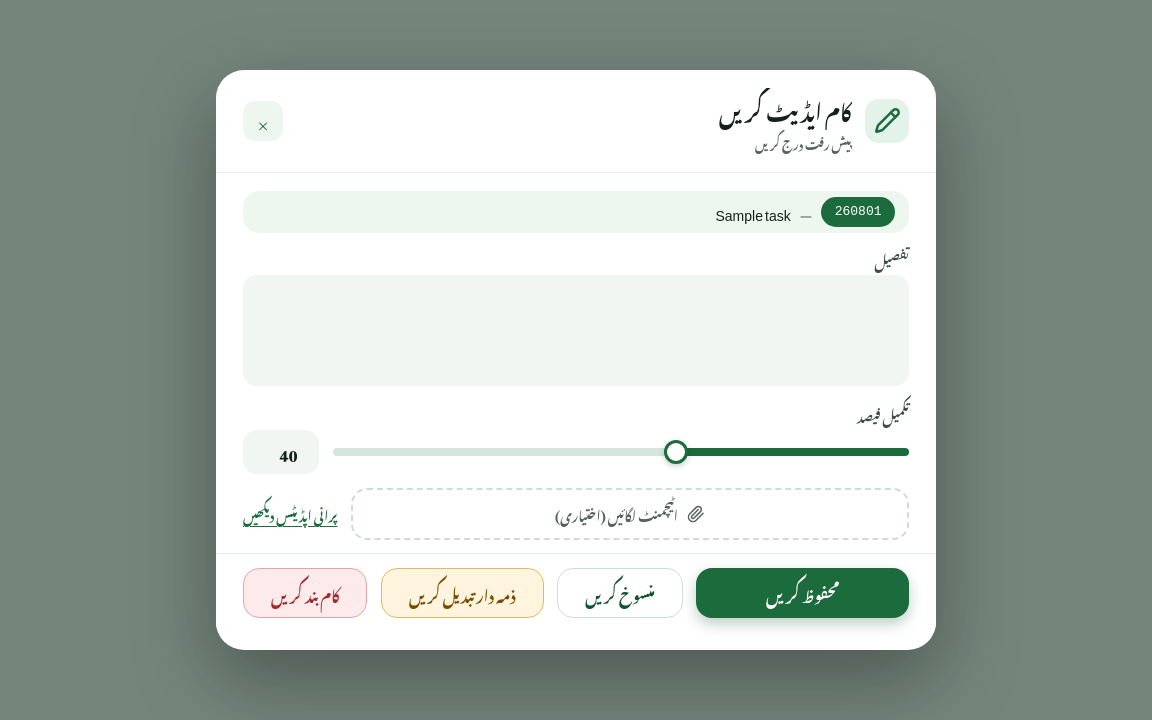
it: UpdateModal (docs/08-ui-ux.md §7, docs/09-frontend-features.md §3) › Change Assignee footer button › shows a read-only Zimmedari field that auto-fills from the selected person, not before
Expected: the text "Sample task" is shown, x1=716 y1=194 x2=791 y2=229
Click the button "ذمہ دار تبدیل کریں": (462, 593) x1=381 y1=568 x2=544 y2=618
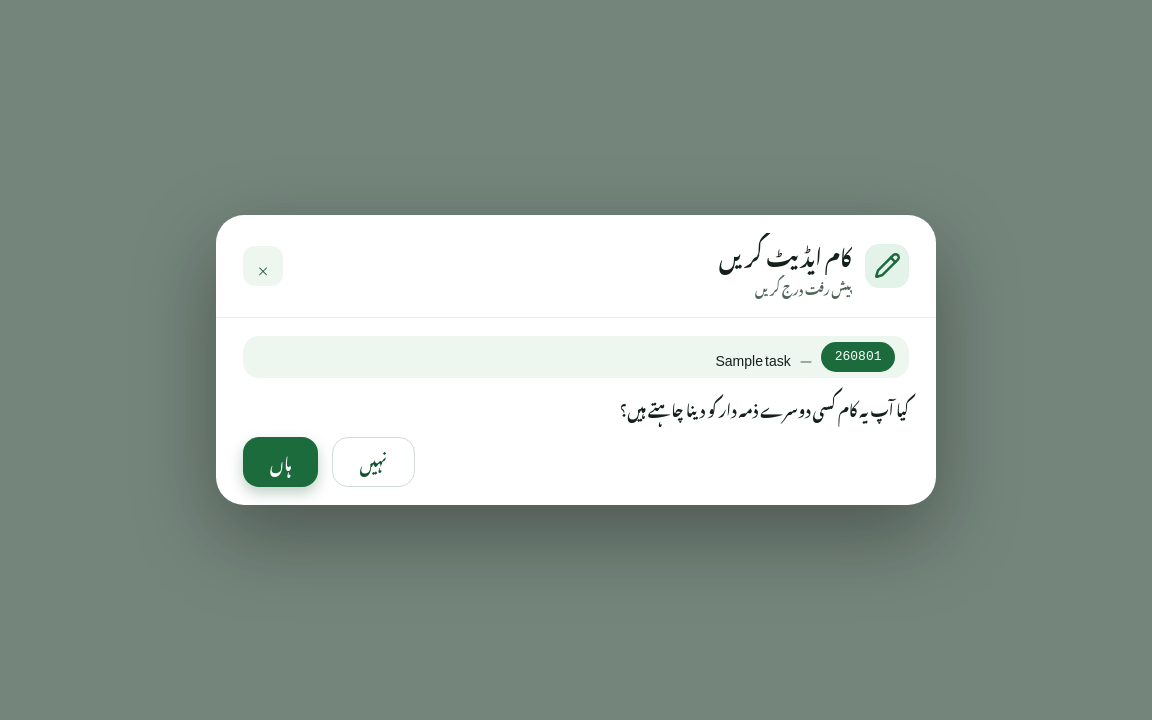
Click the button "ہاں": (281, 462) x1=243 y1=437 x2=318 y2=487
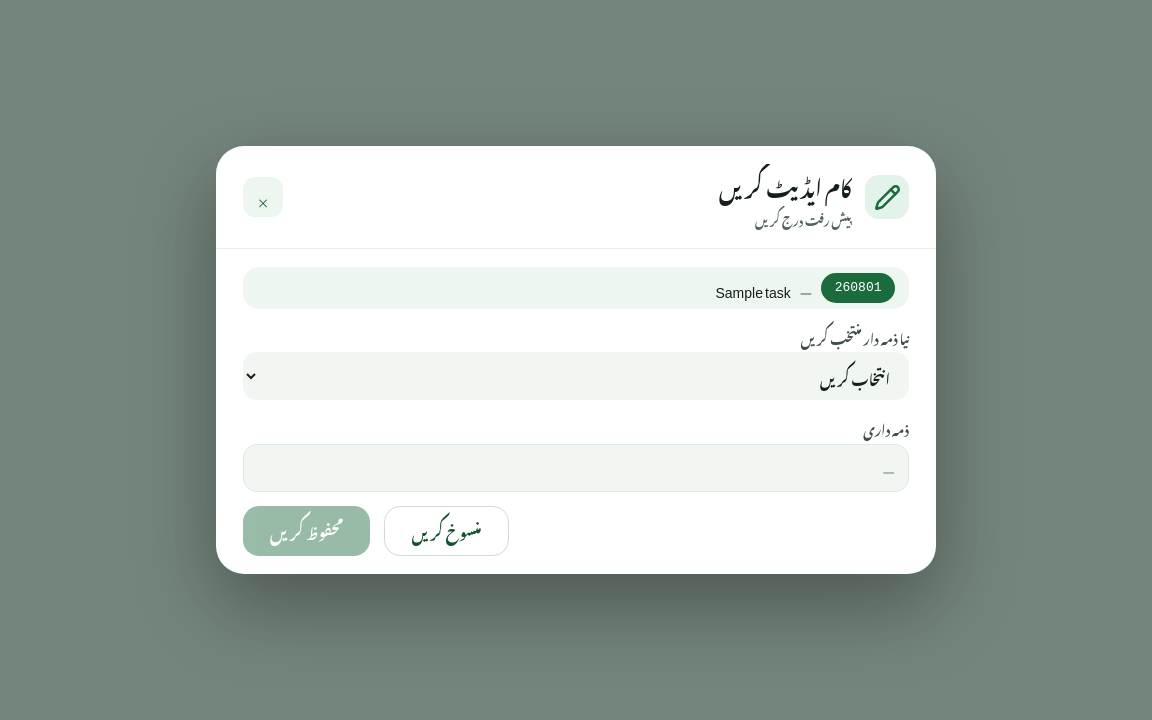
Result: the text named "ذمہ داری" reads "—" at x1=884 y1=450 x2=894 y2=485
Select "Bilal" in the dropdown labelled "نیا ذمہ دار منتخب کریں": (576, 376) x1=243 y1=352 x2=909 y2=400
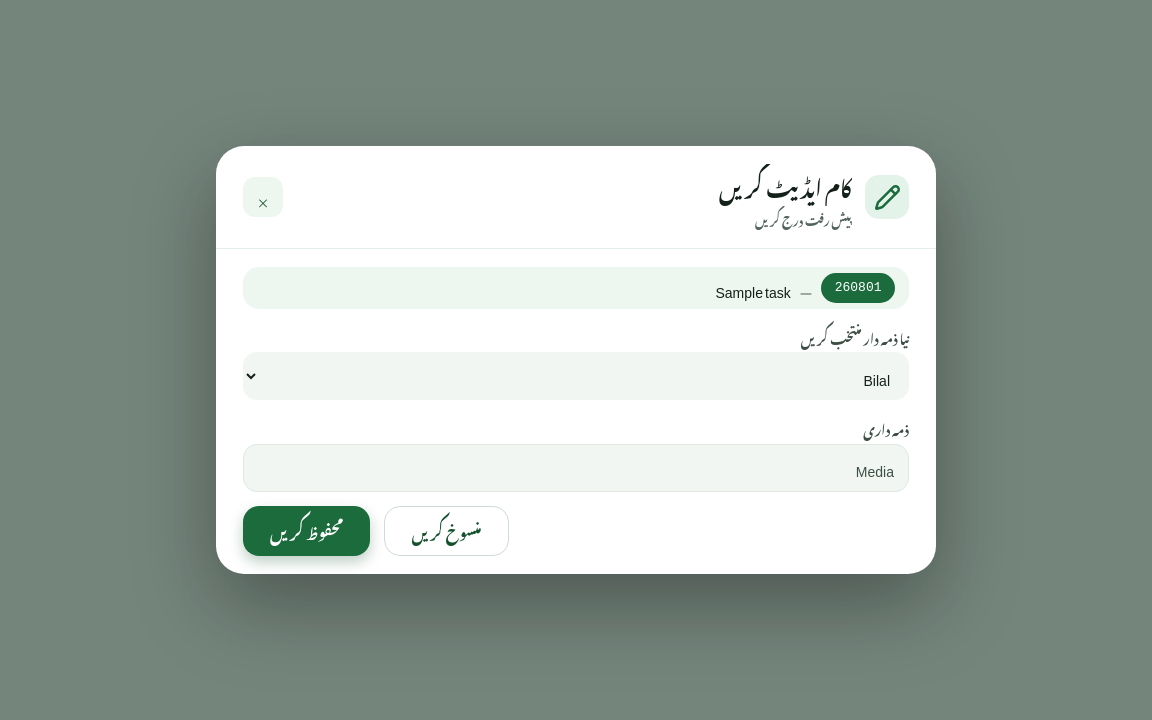
Result: the text named "ذمہ داری" reads "Media" at x1=856 y1=450 x2=894 y2=485
Select "Ali" in the dropdown labelled "نیا ذمہ دار منتخب کریں": (576, 376) x1=243 y1=352 x2=909 y2=400
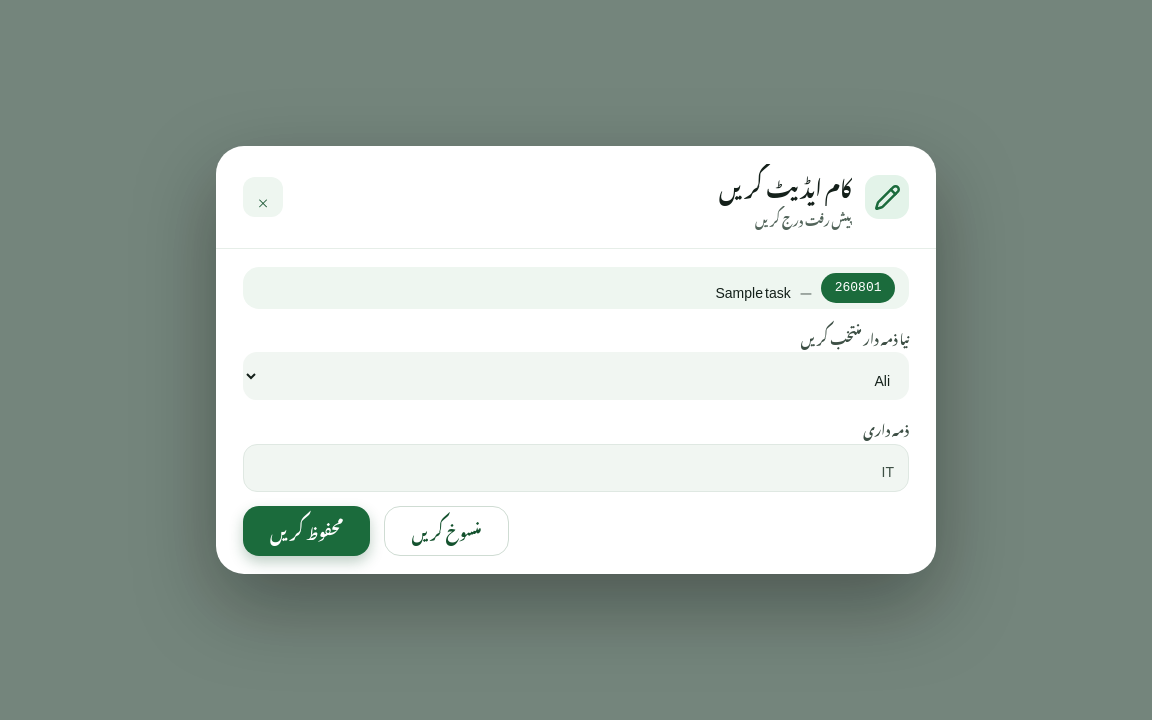
Result: the text named "ذمہ داری" reads "IT" at x1=882 y1=450 x2=894 y2=485
